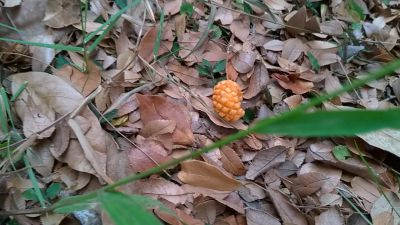eggs: (209, 75, 249, 124)
